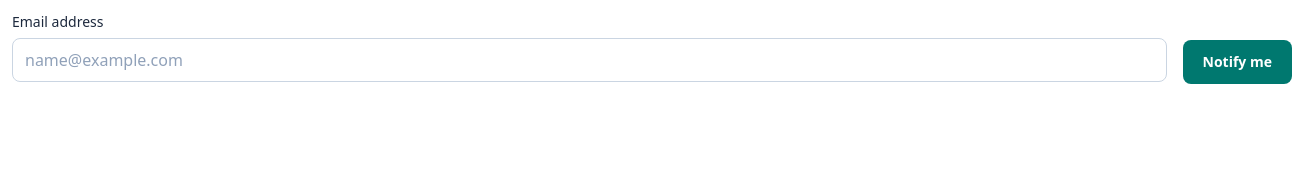
Scenario: NotifyMeForm › rejects an invalid email, then clears the error once it is fixed
Type "not-an-email" into the field labelled "Email address" at (589, 60), box [12,38,1166,82]
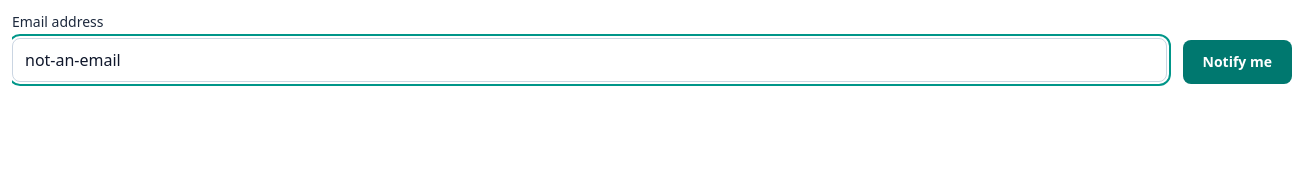
Click the button "Notify me" at (1237, 62), box [1182,40,1292,84]
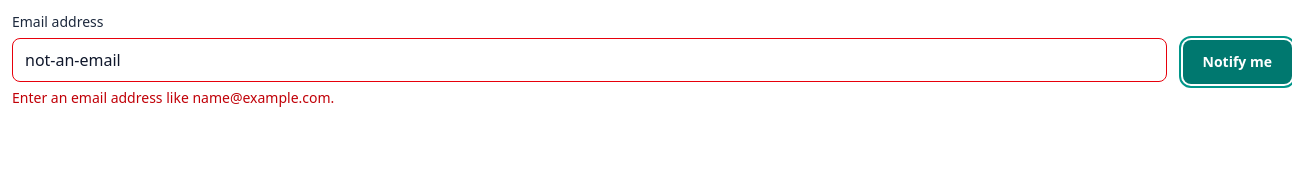
Replace the text in the field labelled "Email address" with "name@example.com" at (589, 60), box [12,38,1166,82]
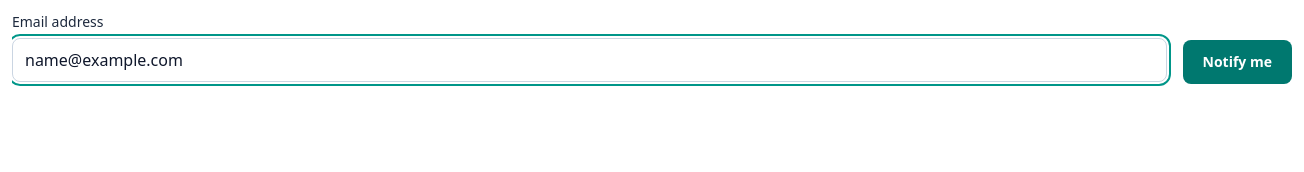
Now the field labelled "Email address" does not have attribute aria-invalid, box [12,38,1166,82]
